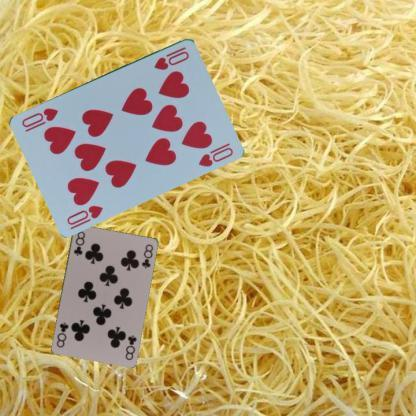10h: (151, 44, 191, 70), (64, 202, 105, 227)
8c: (122, 332, 138, 361), (71, 228, 86, 258)
